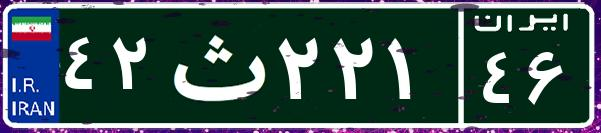1: (385, 28, 445, 110)
2: (273, 28, 330, 110), (330, 28, 385, 110), (110, 28, 158, 105)
4: (57, 26, 110, 107), (475, 38, 525, 113)
6: (525, 38, 570, 115)
ث: (158, 15, 273, 115)
